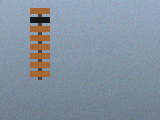defect: (30, 16, 50, 24)
insulator: (28, 6, 52, 81)
